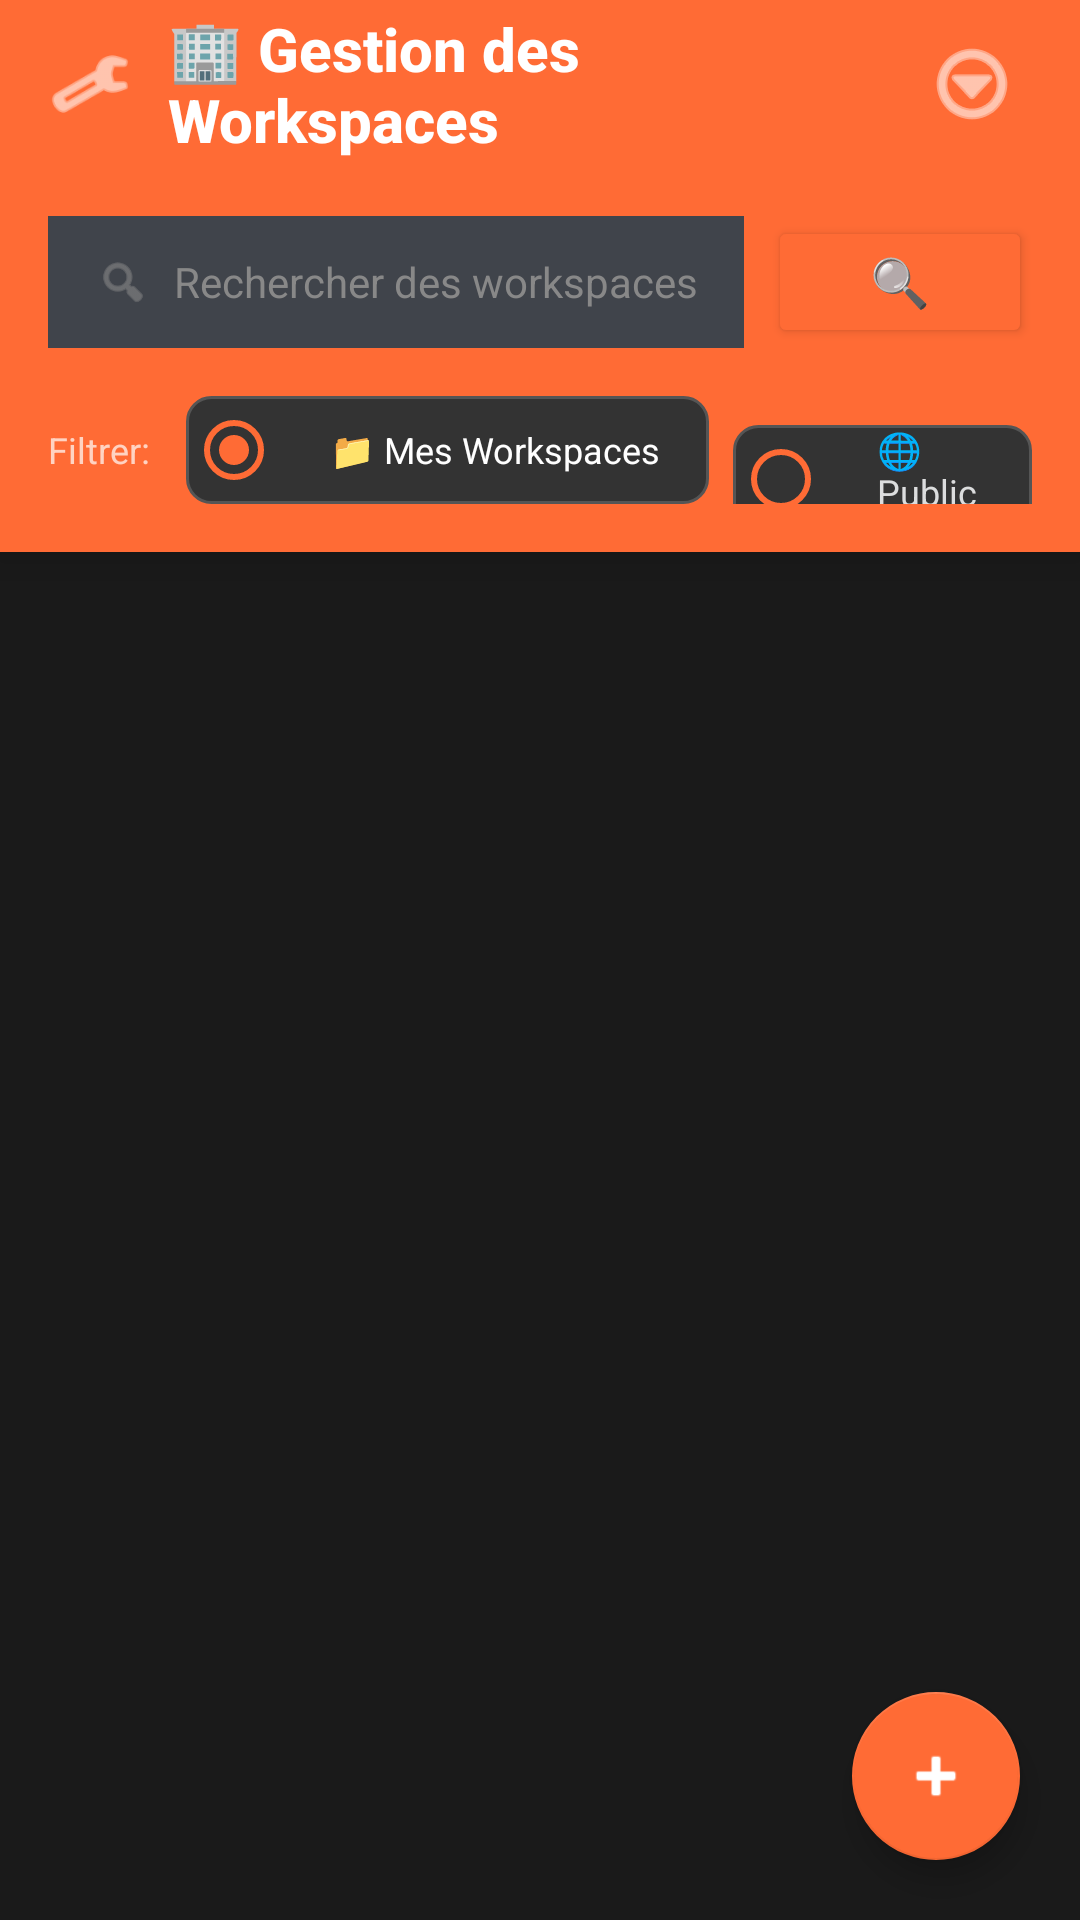

Locate icon controls on the screen. Image size 1080w x 1920h, boxes as {"left": x1, "top": y1, "right": x2, "bottom": y2}.
Créer un workspace: {"left": 852, "top": 1692, "right": 1020, "bottom": 1860}
manage: {"left": 52, "top": 55, "right": 128, "bottom": 113}
Options: {"left": 936, "top": 49, "right": 1008, "bottom": 120}
search: {"left": 103, "top": 263, "right": 143, "bottom": 302}
